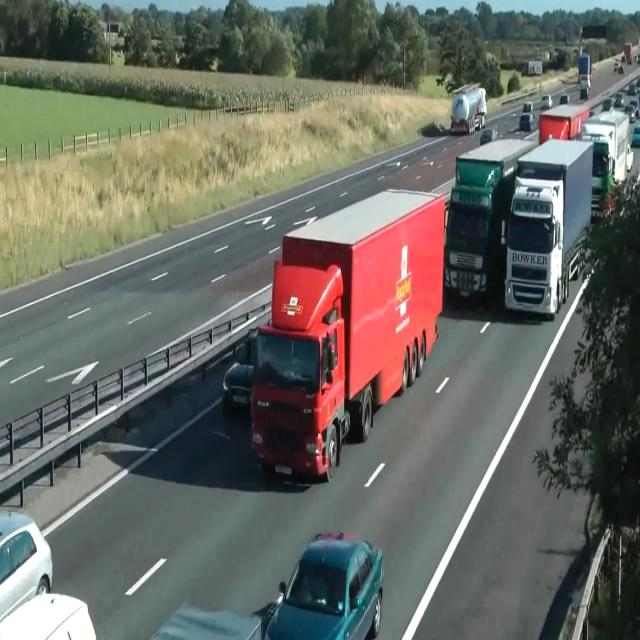bus: (264, 530, 384, 639), (0, 506, 53, 622), (0, 592, 96, 639), (150, 602, 264, 639), (479, 128, 497, 145), (519, 112, 534, 132), (624, 104, 636, 124), (613, 90, 625, 106), (631, 124, 639, 146), (540, 94, 552, 108), (602, 98, 614, 111), (614, 61, 624, 73), (523, 100, 533, 112), (559, 94, 569, 104), (628, 82, 636, 94), (634, 54, 640, 63)
car: (443, 94, 635, 319)
jeep: (222, 328, 256, 412)
minibus: (246, 187, 446, 482), (504, 137, 593, 319), (444, 137, 536, 306), (580, 110, 634, 190), (538, 104, 590, 145), (450, 82, 487, 135), (578, 53, 592, 99), (622, 42, 640, 64), (521, 60, 543, 76)
